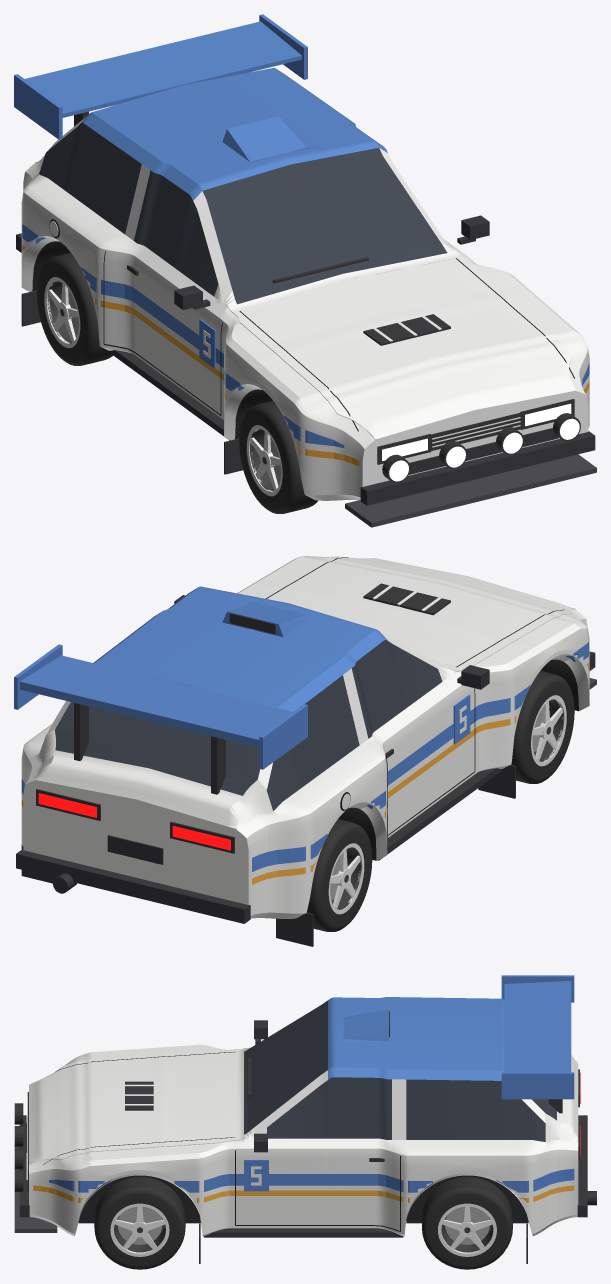
The model's file is group-b-compact.glb.
3 renders of one model, top to bottom at view 1: azimuth 30°, elevation 25°; view 2: azimuth 150°, elevation 25°; view 3: azimuth 270°, elevation 25°, orthographic. The views are drawn at different scales.
Parts seen in each view (by area): view 1: Body, Wheel_FR, Wheel_RR; view 2: Body, Wheel_RR, Wheel_FR; view 3: Body, Wheel_FL, Wheel_RL.
Boxes of the visible parts, x1,y1,x2,y2 form: Body: [14, 14, 596, 527]; Wheel_FR: [239, 401, 317, 513]; Wheel_RR: [36, 252, 112, 365]; Body: [14, 556, 596, 946]; Wheel_RR: [307, 819, 372, 931]; Wheel_FR: [511, 670, 574, 783]; Body: [14, 975, 596, 1263]; Wheel_FL: [94, 1176, 185, 1269]; Wheel_RL: [422, 1176, 512, 1269].
Bounding box in the file's own units: 2.01 × 1.52 × 4.1.
